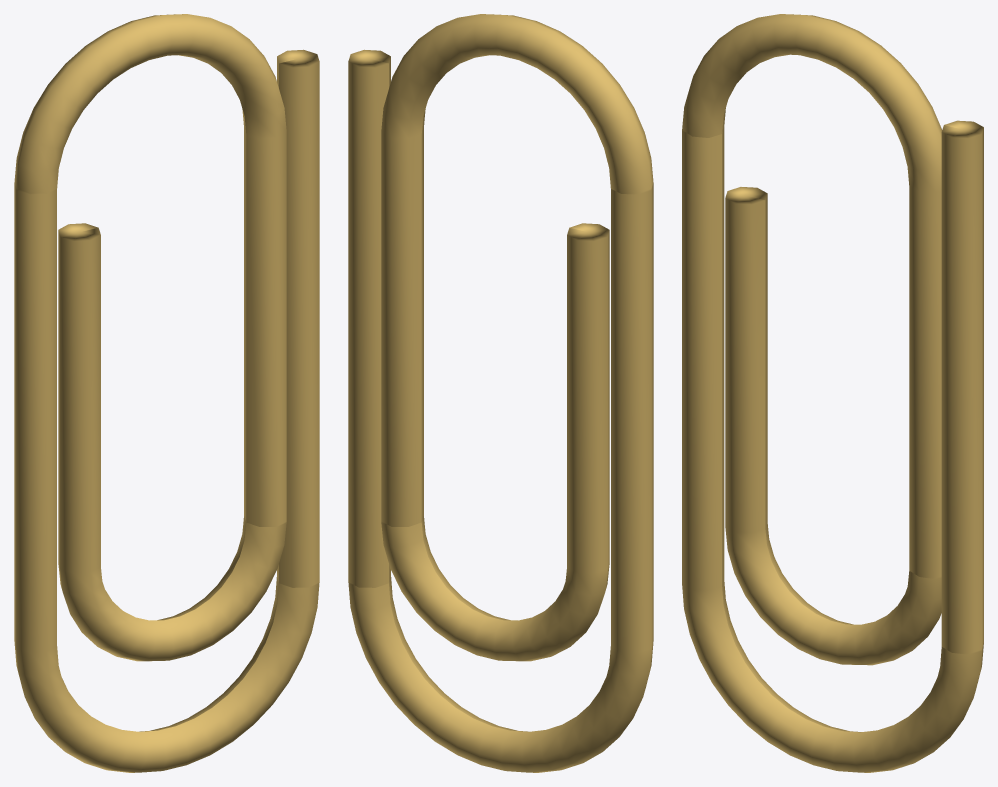
The model's file is paperclip_charm.glb.
3 views of the same model, side by side, from view 1: azimuth 30°, elevation 25°; view 2: azimuth 150°, elevation 25°; view 3: azimuth 330°, elevation 25° (orthographic).
Visible parts, largest first — view 1: shared_paperclip_charm; view 2: shared_paperclip_charm; view 3: shared_paperclip_charm.
Part boxes in pixels (x1,y1,x2,y2): shared_paperclip_charm: (14, 14, 319, 772); shared_paperclip_charm: (348, 14, 653, 772); shared_paperclip_charm: (682, 14, 983, 772).
Bounding box in the file's own units: 0.055 × 0.1318 × 0.007.
